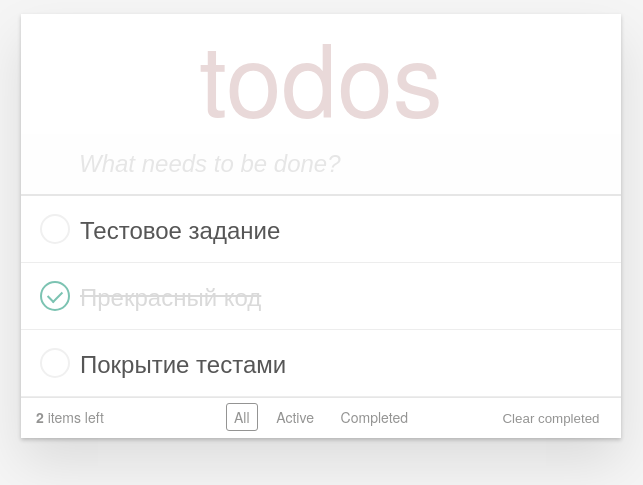
Test case: App Component › clears completed items
What coordinates should you click on to do the following:
click the button "Clear completed"
I would click on:
 (551, 418)
Its box is [496,408,606,428].
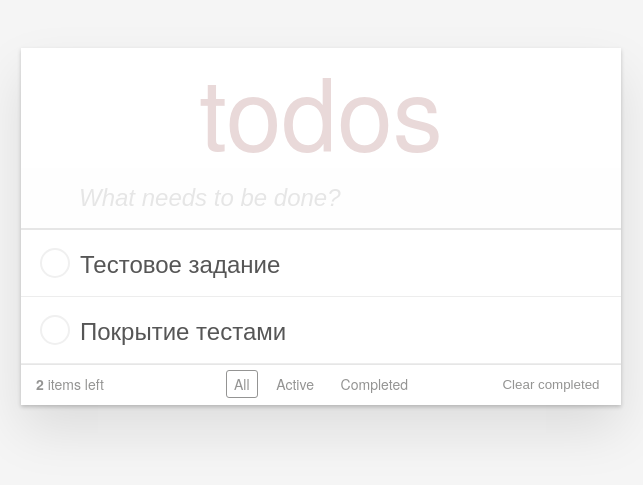
Now the text "Прекрасный код" is gone
